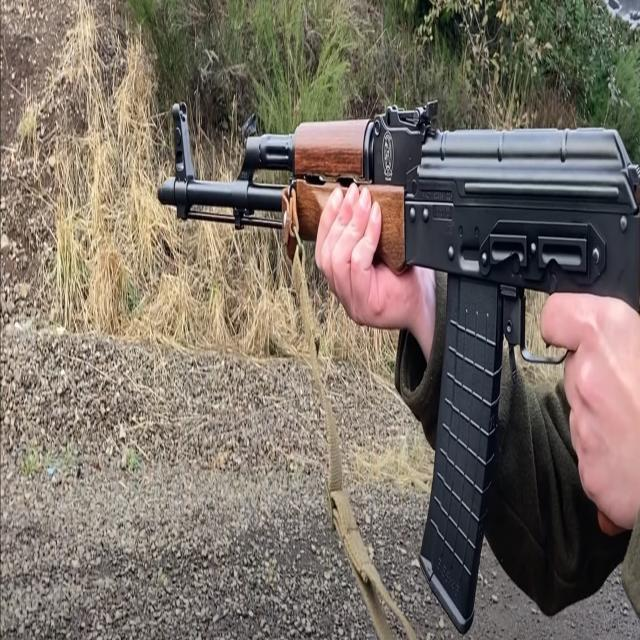ak: (154, 82, 640, 633)
